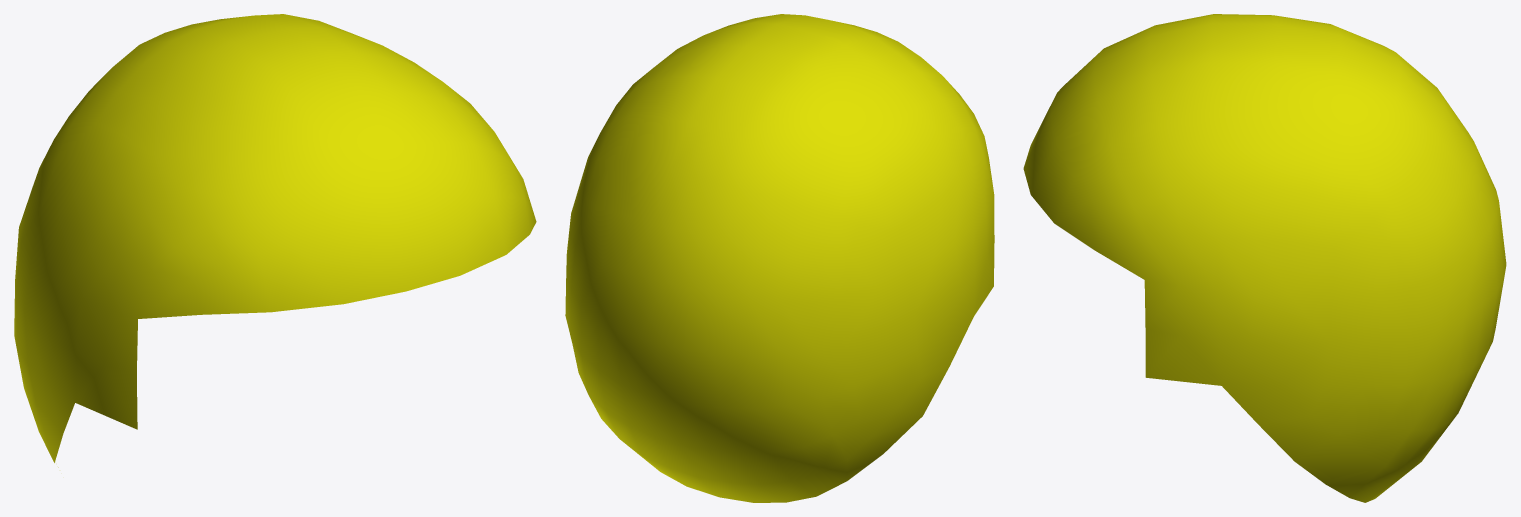
File: SubHair1_132.glb
3 views of the same model, side by side, from view 1: azimuth 30°, elevation 25°; view 2: azimuth 150°, elevation 25°; view 3: azimuth 270°, elevation 25° (orthographic). The views are drawn at different scales.
Parts seen in each view (by area): view 1: subhairtest; view 2: subhairtest; view 3: subhairtest.
Part boxes in pixels (x1,y1,x2,y2): subhairtest: [14, 14, 536, 467]; subhairtest: [565, 14, 994, 502]; subhairtest: [1023, 14, 1506, 502].
Size of the model in its own units: 52.93 by 57.51 by 57.28.
